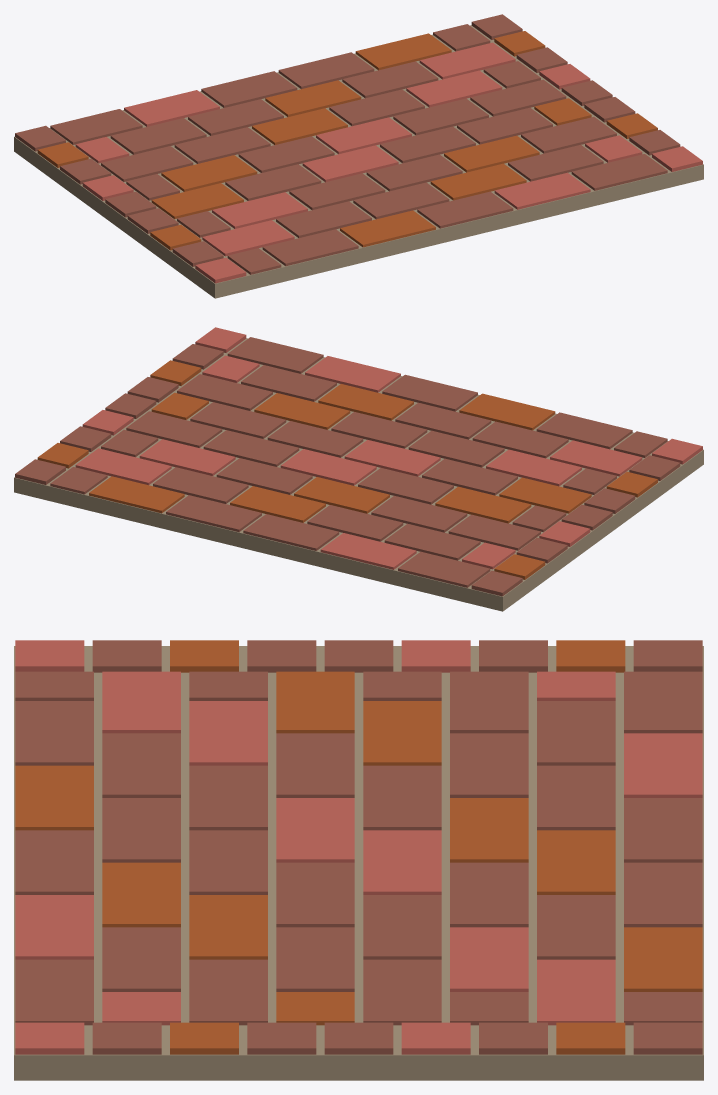
Rendered from CatCafe_Lawn_Path_RedBrick.glb.
3 views of the same model, one above another, from view 1: azimuth 30°, elevation 25°; view 2: azimuth 150°, elevation 25°; view 3: azimuth 270°, elevation 25° (orthographic). The views are drawn at different scales.
Parts seen in each view (by area): view 1: CatCafe_Lawn_Path_RedBrick; view 2: CatCafe_Lawn_Path_RedBrick; view 3: CatCafe_Lawn_Path_RedBrick.
Boxes of the visible parts, x1,y1,x2,y2 form: CatCafe_Lawn_Path_RedBrick: (14,14,703,298); CatCafe_Lawn_Path_RedBrick: (14,327,703,611); CatCafe_Lawn_Path_RedBrick: (14,640,703,1080).
Bounding box in the file's own units: 6.96 × 0.25 × 4.96.
1 material, 1 textured.
